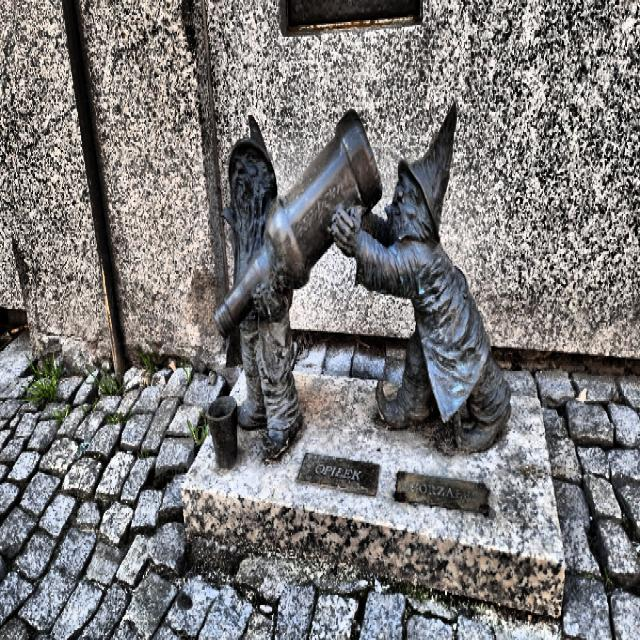Ogorzalek_i_Opilek: (215, 107, 511, 458)
